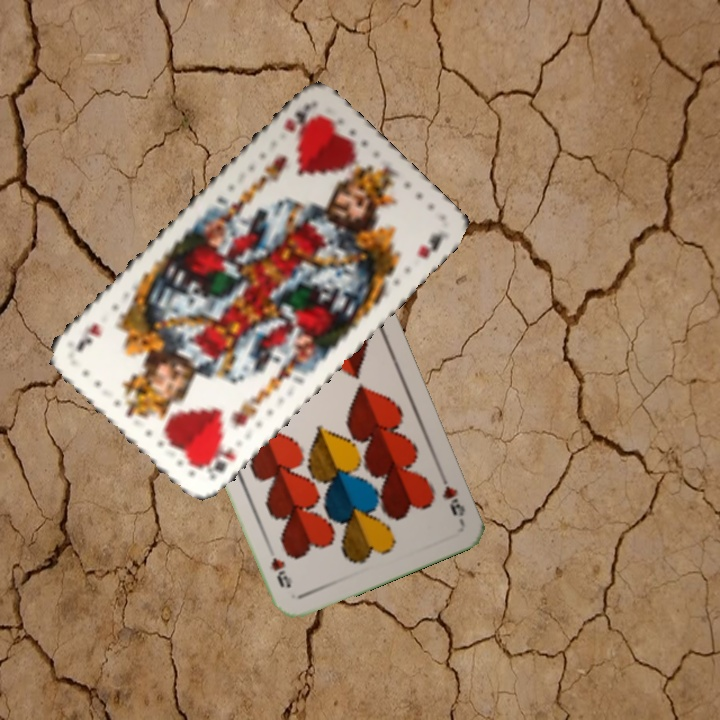H9: (435, 468, 468, 519)
HK: (196, 442, 240, 484), (279, 100, 313, 136)
